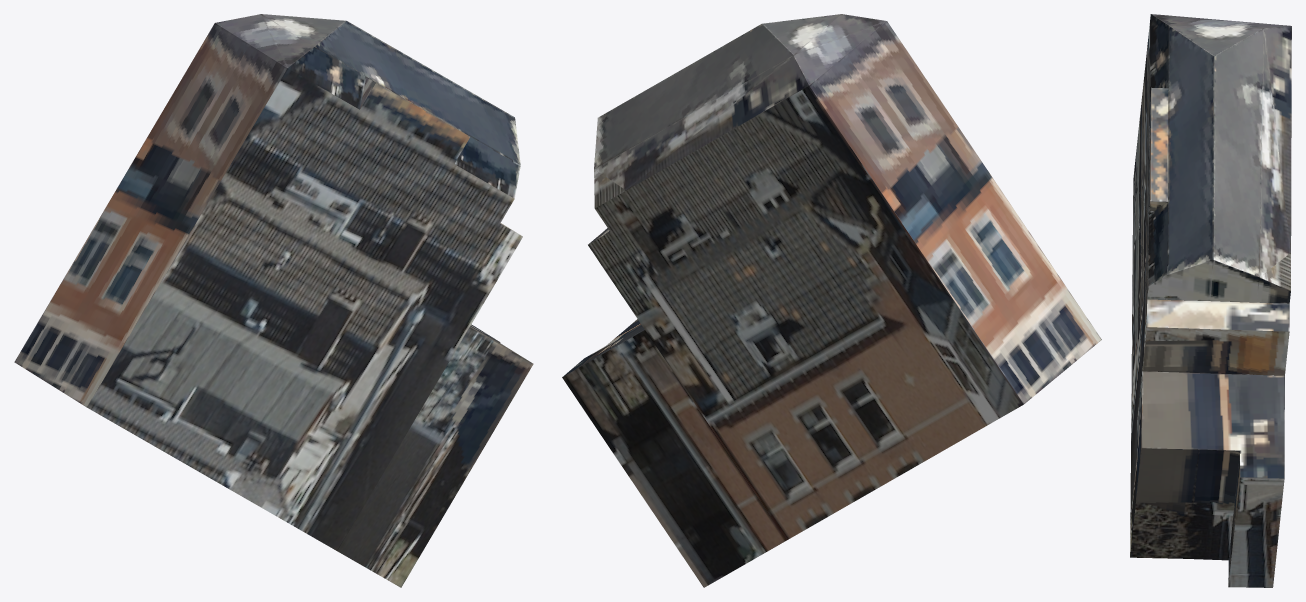
3 views of the same model, side by side, from view 1: azimuth 30°, elevation 25°; view 2: azimuth 150°, elevation 25°; view 3: azimuth 270°, elevation 25° (orthographic). The views are drawn at different scales.
Visible parts, largest first — view 1: BAG_0599100000671699 (×4); view 2: BAG_0599100000671699 (×4); view 3: BAG_0599100000671699 (×7).
Boxes of the visible parts, left/top/right/bottom form: BAG_0599100000671699 (×4): left=14, top=14, right=533, bottom=587; BAG_0599100000671699 (×4): left=562, top=14, right=1101, bottom=587; BAG_0599100000671699 (×7): left=1130, top=14, right=1291, bottom=587.
Size of the model in its own units: 18.11 by 20.76 by 5.81.
1 material, 1 textured.
